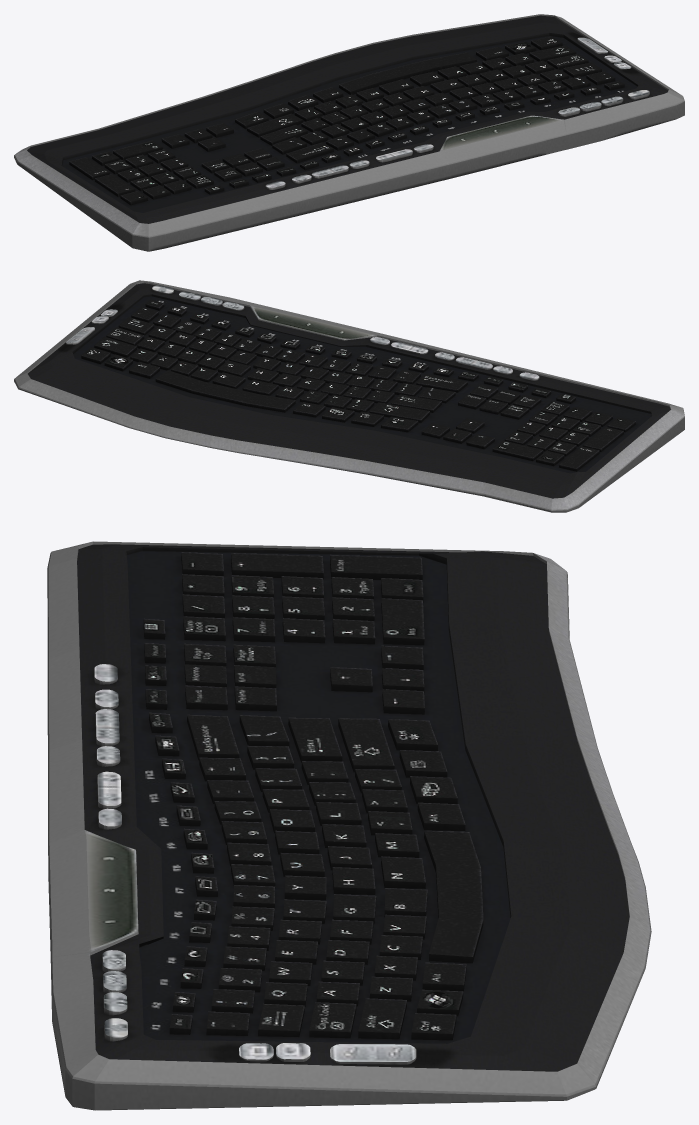
File: Keyboard1.obj
3 views of the same model, one above another, from view 1: azimuth 30°, elevation 25°; view 2: azimuth 150°, elevation 25°; view 3: azimuth 270°, elevation 25° (orthographic). The views are drawn at different scales.
Parts seen in each view (by area): view 1: 10105_Computer_Keyboard_v1; view 2: 10105_Computer_Keyboard_v1; view 3: 10105_Computer_Keyboard_v1.
Boxes of the visible parts, bbox=[...] form: 10105_Computer_Keyboard_v1: bbox=[14, 14, 684, 251]; 10105_Computer_Keyboard_v1: bbox=[14, 280, 684, 512]; 10105_Computer_Keyboard_v1: bbox=[47, 541, 651, 1110].
Bounding box in the file's own units: 49.8 × 1.98 × 23.43.
Materials: 1 (1 with a texture image).
